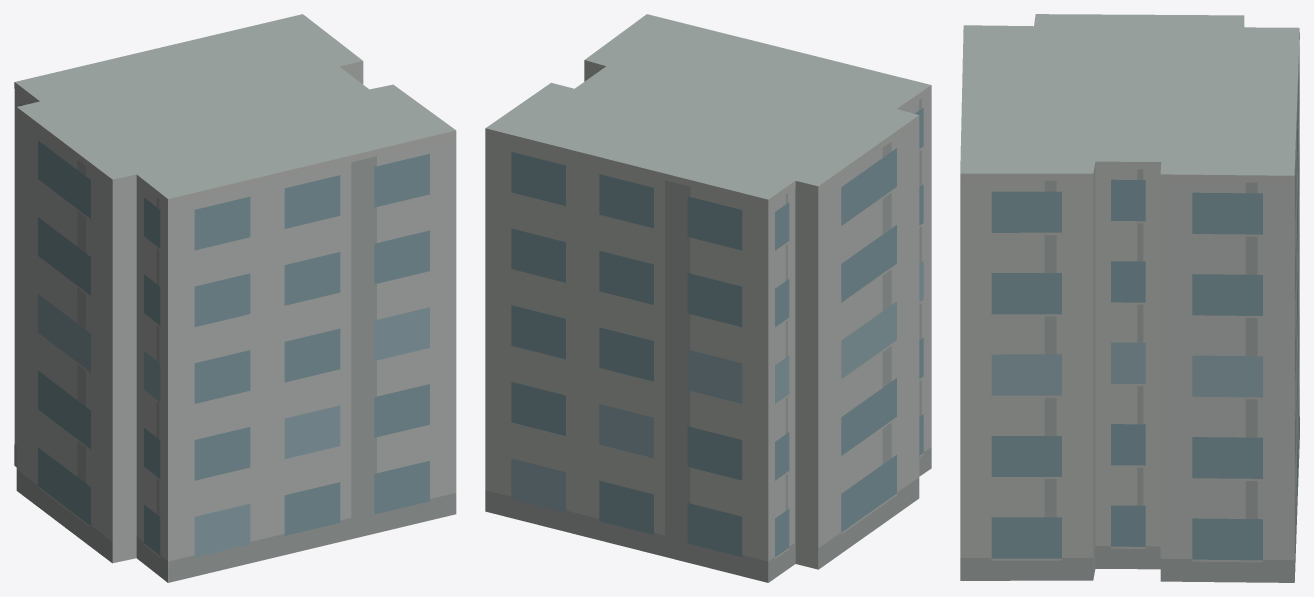
Rendered from survey-upis-32636534.glb.
The picture shows the model from 3 angles, left to right: view 1: azimuth 30°, elevation 25°; view 2: azimuth 150°, elevation 25°; view 3: azimuth 270°, elevation 25°; orthographic projection. The views are drawn at different scales.
Visible parts, largest first — view 1: survey-upis-32636534.tmp; view 2: survey-upis-32636534.tmp; view 3: survey-upis-32636534.tmp.
Boxes of the visible parts, x1,y1,x2,y2 form: survey-upis-32636534.tmp: (14,14,456,582); survey-upis-32636534.tmp: (485,14,931,582); survey-upis-32636534.tmp: (960,14,1299,582).
Size of the model in its own units: 11.68 by 13.7 by 10.37.
